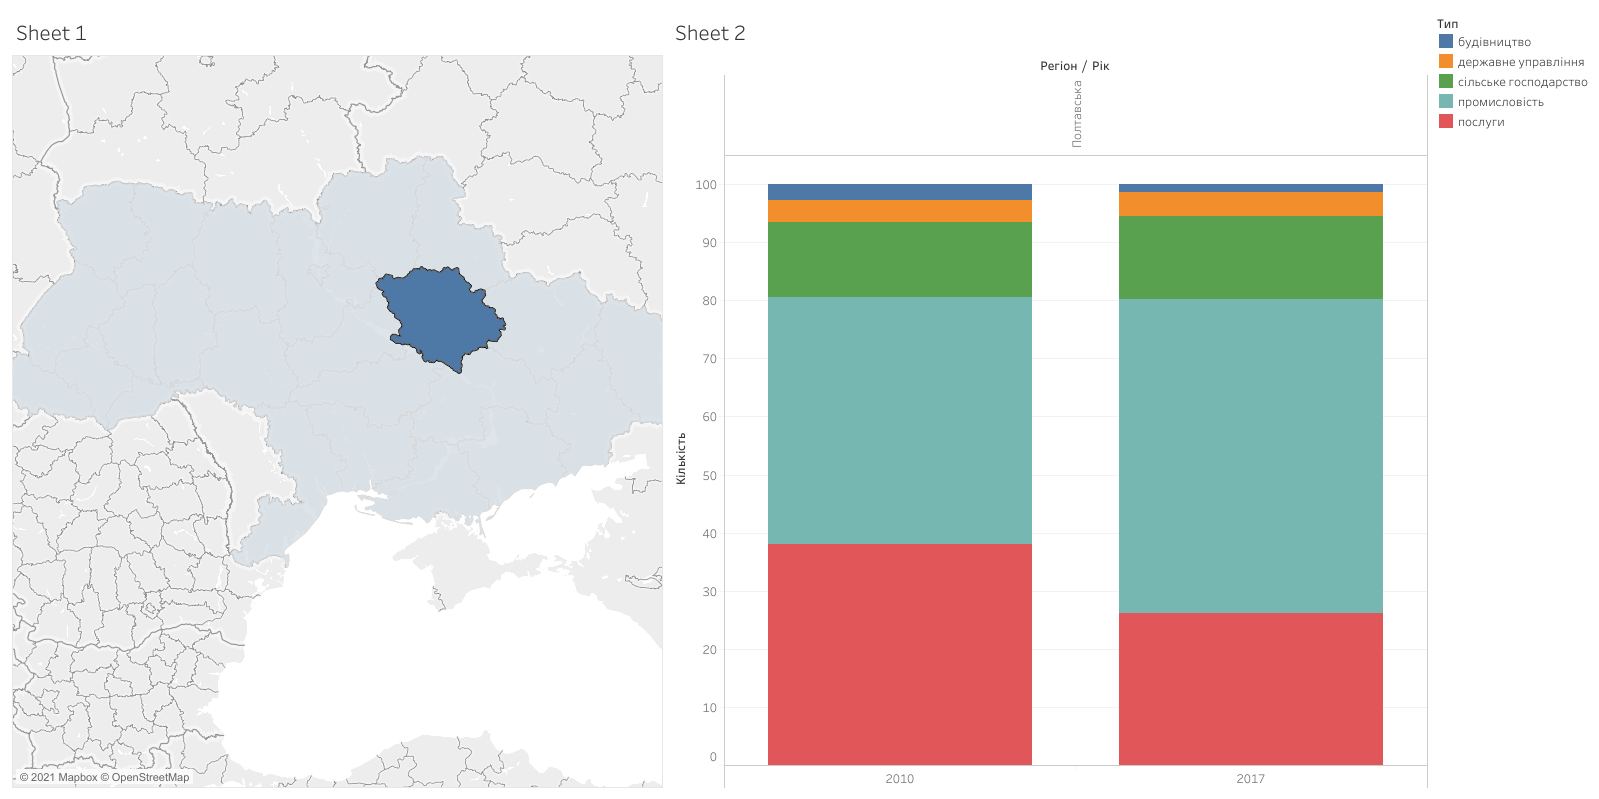

This screenshot's page, from the dashboard's own definition file:
{"tool":"tableau","page":{"name":"Dashboard 1","canvas":[1600,800],"ordinal":0},"visuals":[{"type":"worksheet","title":"Sheet 1","mark":"Multipolygon","box":[8,8,659,784]},{"type":"worksheet","title":"Sheet 2","mark":"Bar","rows":["кількість"],"cols":["регіон","рік"],"box":[667,8,765,784]},{"type":"legend","title":"Sheet 2","param":"[federated.02fjs6z1skt3q119shs4v1us3ad7].[none:тип:nk]","box":[1432,8,160,126]}]}

Visuals, with their boxes in screenshot pixels (x1, y1, x2, y2), scaled from the page's 1600x800 canvas onto the 1599x799 screenshot:
"Sheet 1" worksheet (Multipolygon marks): x1=8 y1=8 x2=667 y2=791
"Sheet 2" worksheet (Bar marks): x1=667 y1=8 x2=1431 y2=791
"Sheet 2" legend: x1=1431 y1=8 x2=1591 y2=134
